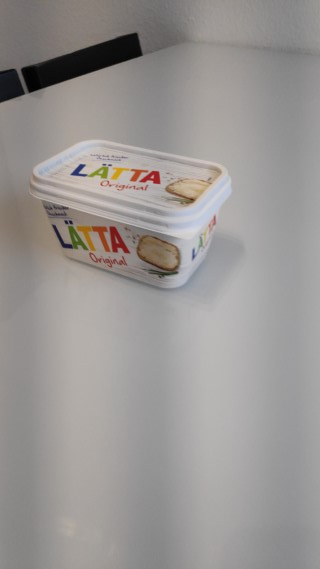laetta: (28, 138, 233, 289)
